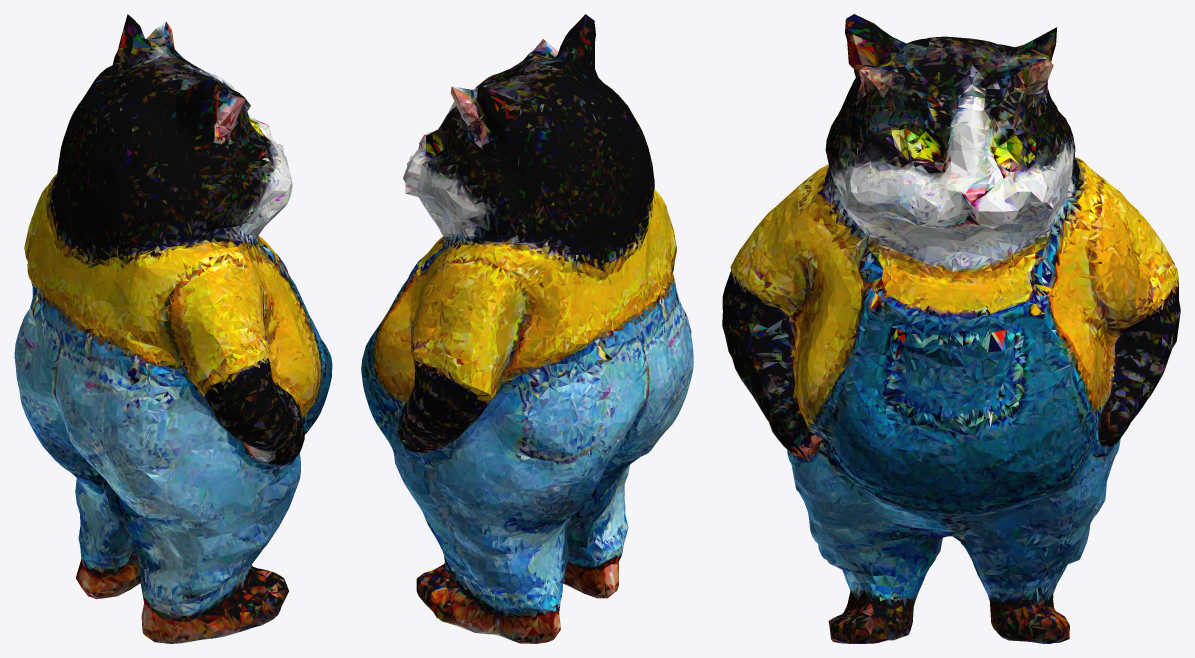
The model's file is fatcat-depth.glb.
3 views of the same model, side by side, from view 1: azimuth 30°, elevation 25°; view 2: azimuth 150°, elevation 25°; view 3: azimuth 270°, elevation 25° (orthographic). The views are drawn at different scales.
Parts seen in each view (by area): view 1: extracted_mesh; view 2: extracted_mesh; view 3: extracted_mesh.
Boxes of the visible parts, x1=… form: extracted_mesh: x1=14, y1=14, x2=332, y2=643; extracted_mesh: x1=361, y1=14, x2=693, y2=643; extracted_mesh: x1=722, y1=14, x2=1180, y2=643.
Bounding box in the file's own units: 0.5234 × 1.1 × 0.7347.
Materials: 1 (1 with a texture image).
